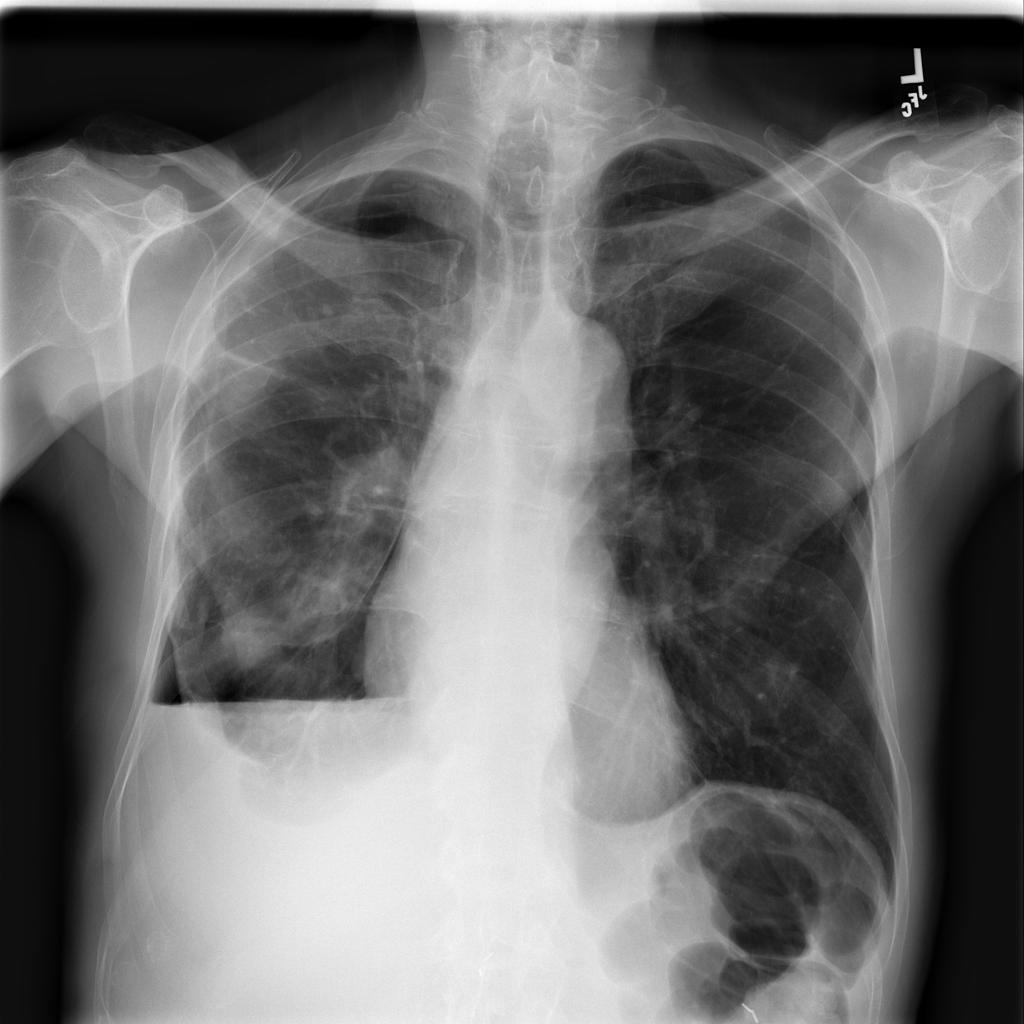nodule: (202, 578, 308, 693)
